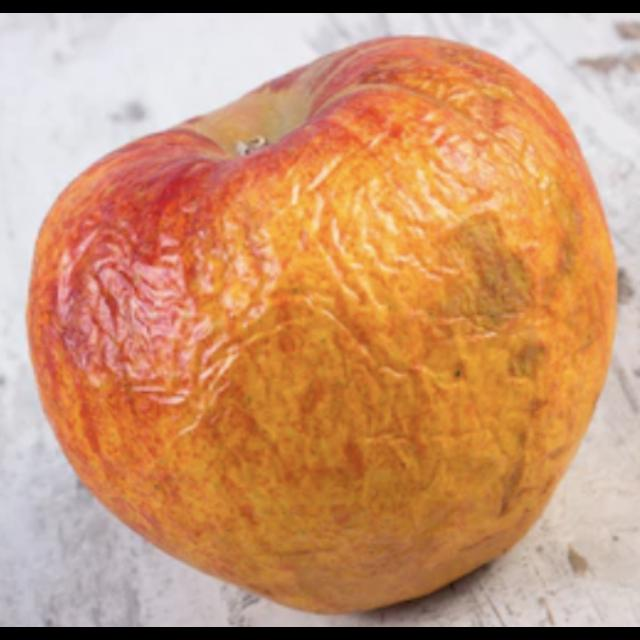Apel Tidak Segar: (26, 41, 620, 612)
